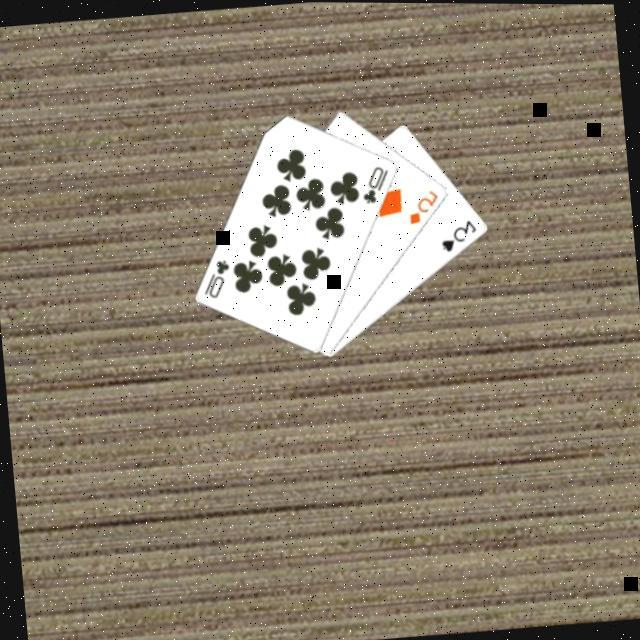10C: (198, 258, 236, 304), (358, 162, 395, 208)
3S: (437, 216, 482, 256)
5D: (404, 187, 444, 228)
